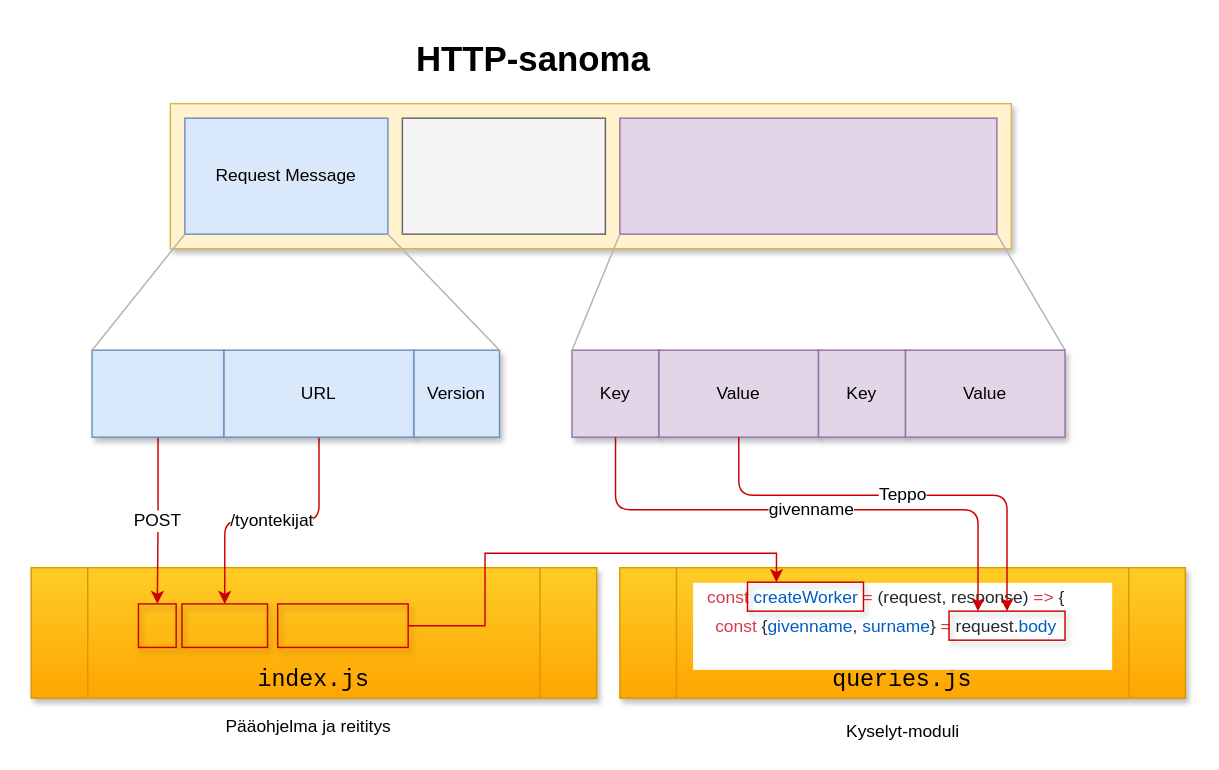
Some shapes in this 1219 by 770 pixel diagram are drawn without their labels. The shapes that lost their labels are listed below. From the top down, each one's centre as x and y in pixels, then its label:
(503,175): Header
(807,175): Body
(159,395): Method
(225,627): app . post ( ' /tyontekijat ' , db . createWorker )
